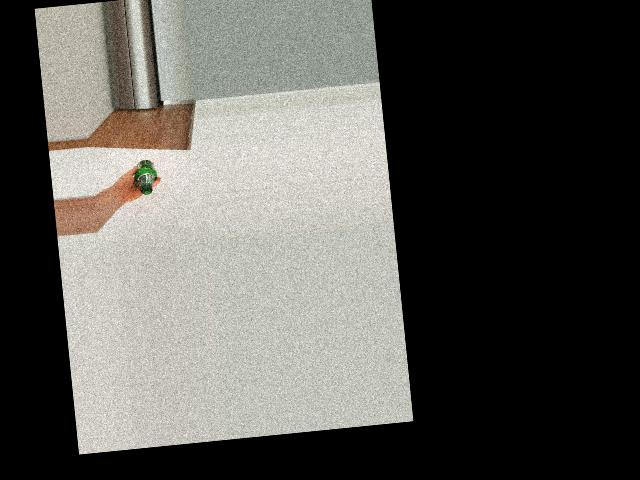beer: (132, 159, 158, 195)
